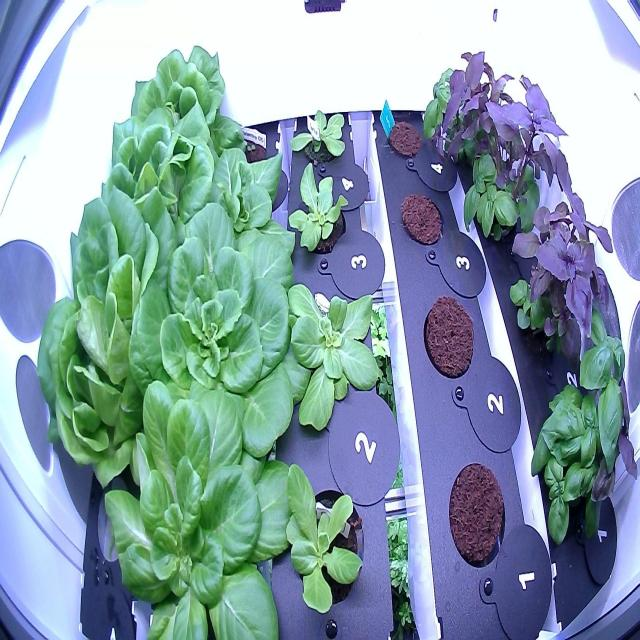Ready: (31, 187, 198, 495), (78, 117, 225, 266), (107, 33, 255, 164)
empty_pod: (90, 472, 140, 567)
germination: (230, 121, 268, 181)
pod: (439, 454, 513, 582), (420, 288, 481, 392), (395, 182, 449, 256), (382, 100, 429, 168)
young: (92, 372, 301, 639), (112, 190, 314, 452), (160, 144, 302, 290), (280, 258, 384, 440), (276, 454, 374, 618), (283, 157, 355, 266), (285, 97, 352, 175)
